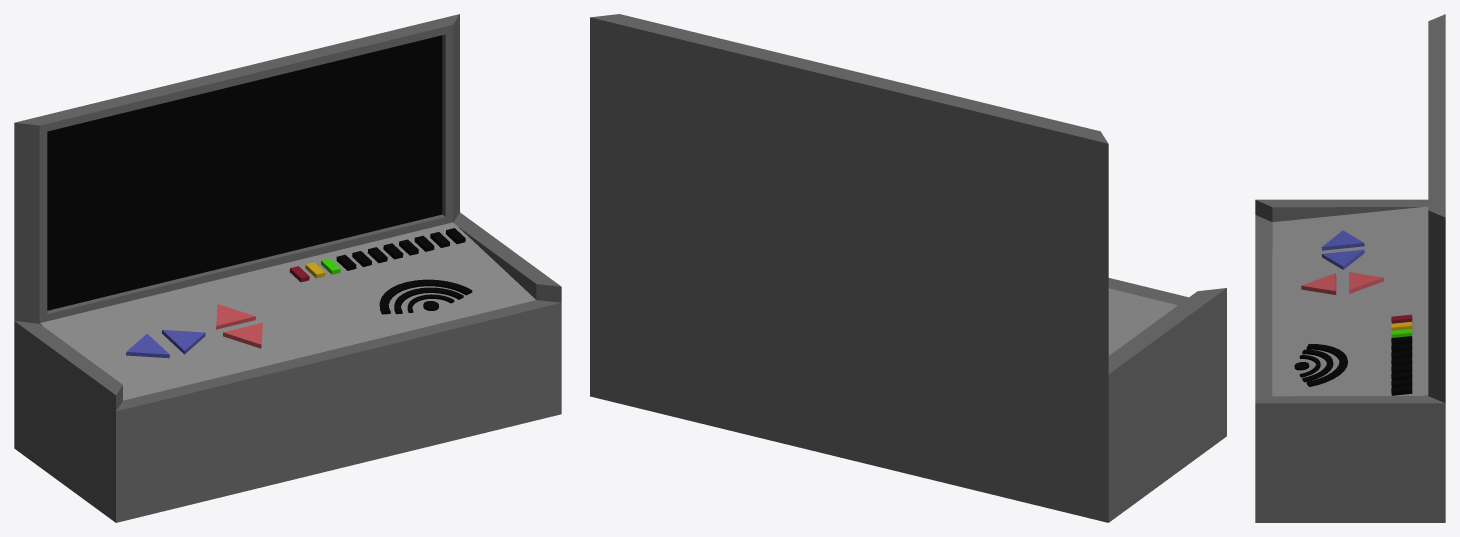
File: SatelliteTable.fbx
3 renders of one model, left to right at view 1: azimuth 30°, elevation 25°; view 2: azimuth 150°, elevation 25°; view 3: azimuth 270°, elevation 25°, orthographic. The views are drawn at different scales.
Visible parts, largest first — view 1: Cube, Cylinder.003, Cube.003, Cube.002; view 2: Cube; view 3: Cube, Cylinder.003, Cube.002, Cube.001, Cube.003, Cube.004, Cylinder.002.
Part boxes in pixels (x1,y1,x2,y2): Cube: (14,14,561,522); Cylinder.003: (379,279,472,314); Cube.003: (223,322,262,348); Cube.002: (126,333,169,358); Cube: (590,14,1226,522); Cube: (1255,14,1445,522); Cylinder.003: (1306,343,1347,386); Cube.002: (1321,230,1364,250); Cube.001: (1321,249,1364,269); Cube.003: (1301,273,1336,294); Cube.004: (1349,272,1383,293); Cylinder.002: (1302,349,1333,382).
Size of the model in its own units: 371 by 259 by 147.
